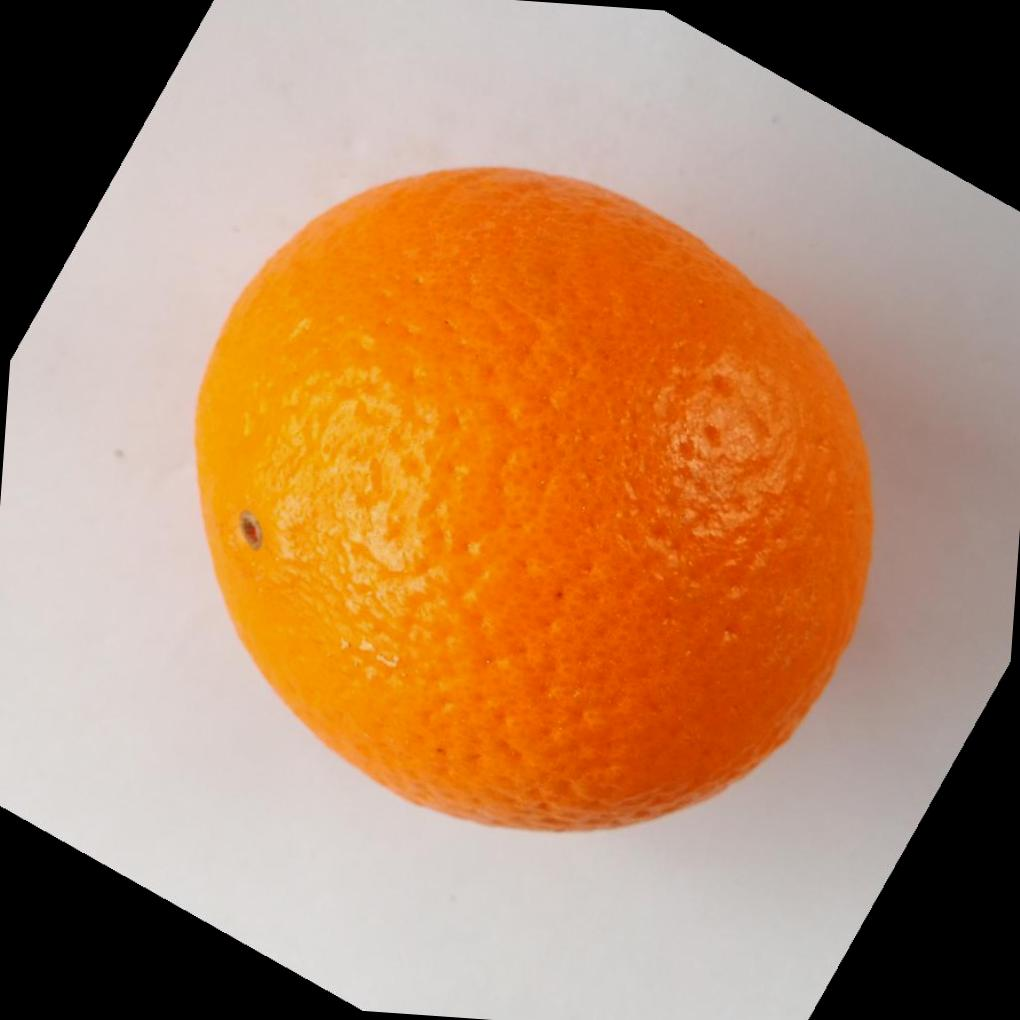FreshGuava: (191, 160, 877, 830)
